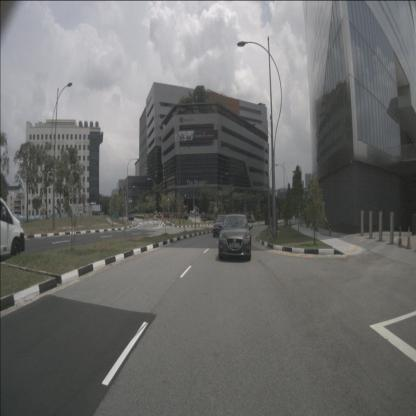cone: (404, 226, 412, 248), (397, 225, 404, 247)
